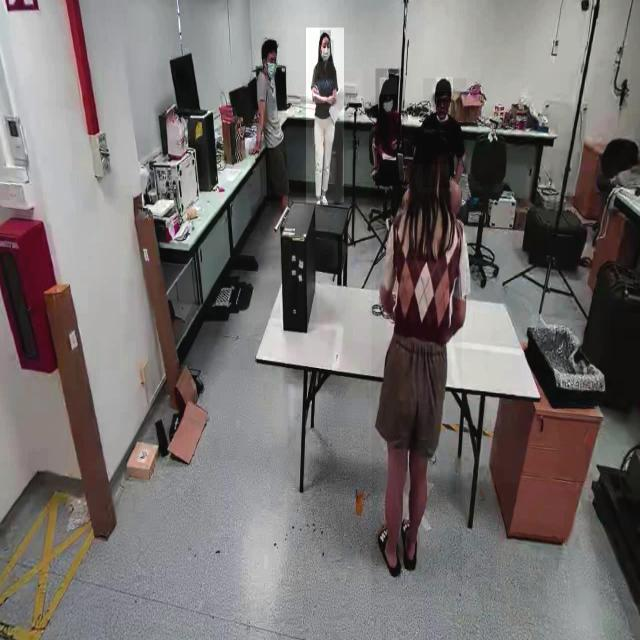face_mask: (264, 50, 278, 84), (379, 97, 395, 118), (319, 40, 333, 62)
face_nomask: (436, 95, 451, 116)
hand_noglove: (248, 142, 262, 156), (327, 92, 338, 105), (312, 82, 321, 97)
head_nohelmet: (413, 131, 452, 165), (379, 77, 397, 95), (261, 37, 281, 50), (435, 78, 453, 92), (319, 30, 331, 41)
person: (371, 131, 462, 597), (251, 31, 287, 220), (306, 28, 344, 204), (422, 78, 467, 188), (375, 68, 404, 186)
